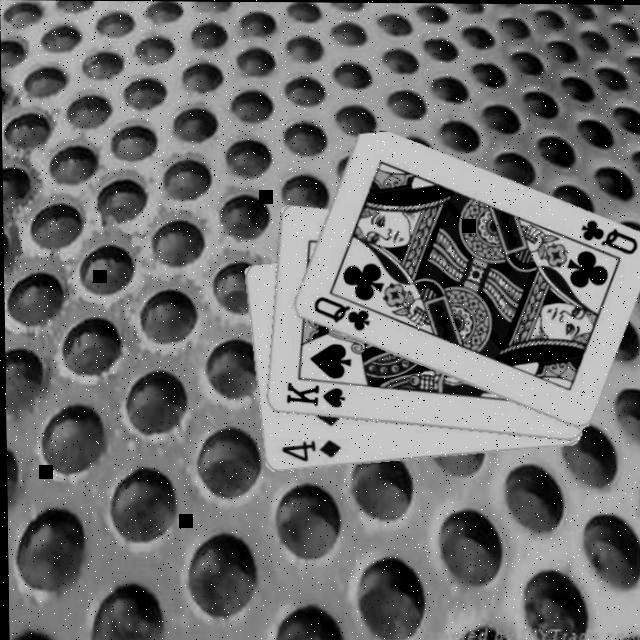4D: (276, 436, 341, 464)
KS: (279, 378, 345, 409)
QC: (576, 215, 639, 256), (308, 292, 370, 333)
